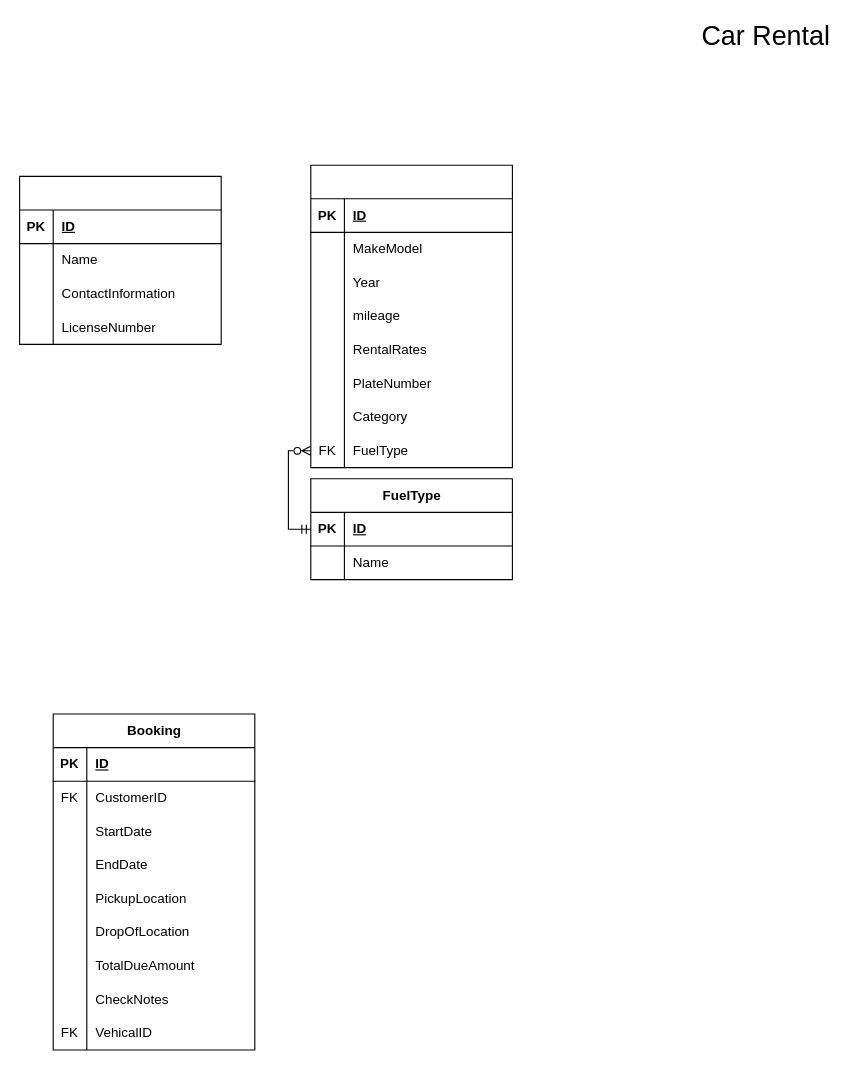
This 868x1070 diagram has some shape labels left out. The shapes that lost their labels are listed below. From the top down, each one's box as (x1, y1, x2, y2) in pixels, then its label:
(18, 175, 221, 344): Customer
(310, 164, 512, 468): Vehicle
